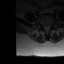CCS_normal: (46, 23, 48, 33)
LFS_severe_stenosis: (50, 23, 53, 28)
LLS_normal: (48, 23, 50, 31)
RFS_severe_stenosis: (40, 23, 43, 29)
RLS_normal: (43, 23, 46, 32)
